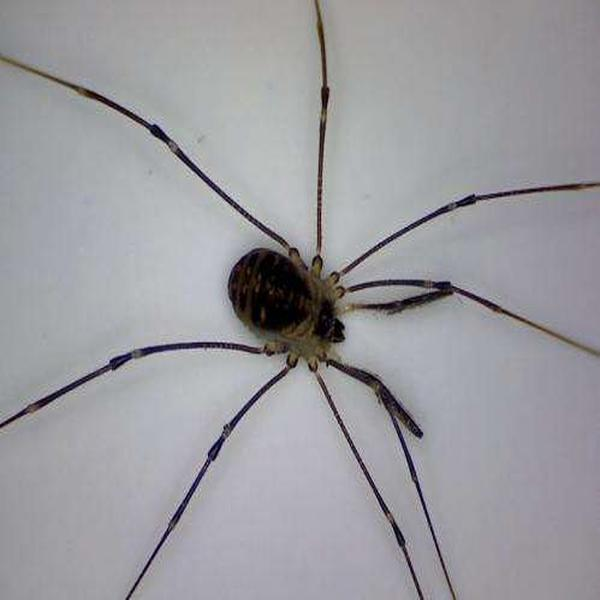Daddy Long Legs Spider: (4, 10, 588, 592)
